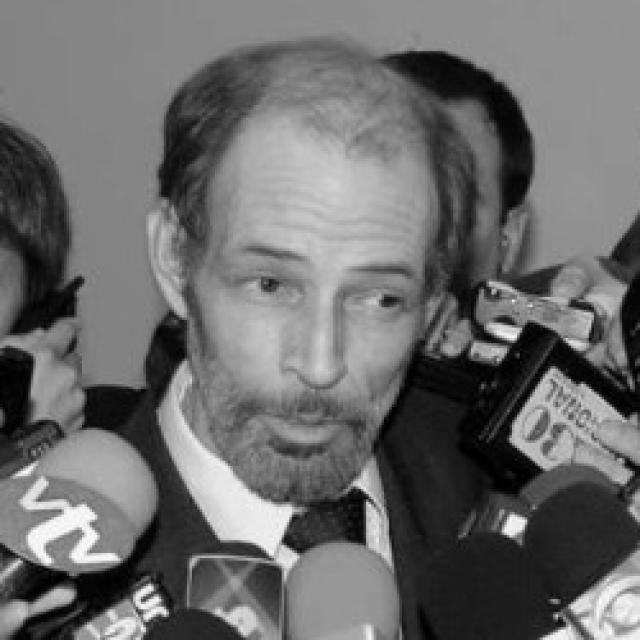real: (190, 113, 429, 489), (225, 258, 419, 317)
